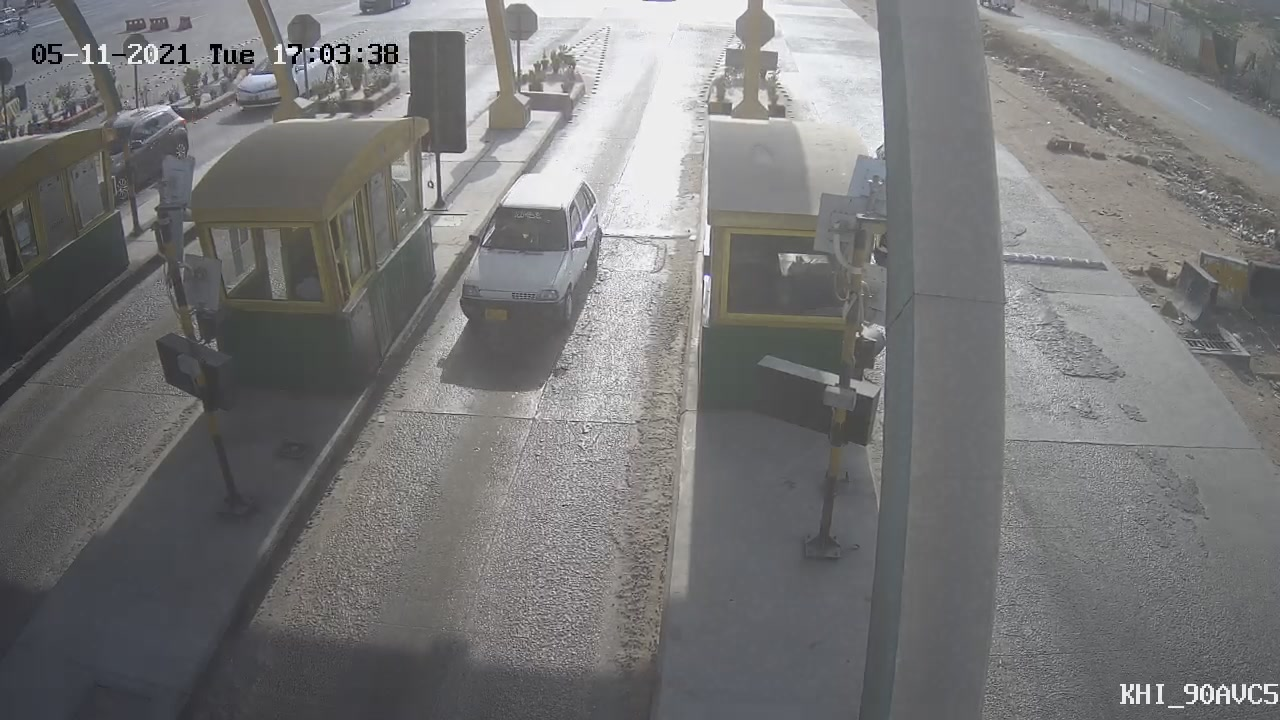F1: (435, 155, 629, 347)
